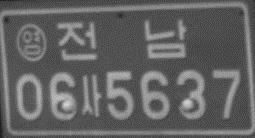0: (14, 72, 44, 121)
3: (175, 69, 206, 119)
5: (104, 69, 135, 120)
6: (139, 69, 170, 120), (47, 71, 78, 121)
7: (211, 68, 241, 121)
사: (79, 73, 102, 117)
영: (14, 22, 47, 62)
전남_D: (56, 19, 188, 60)
